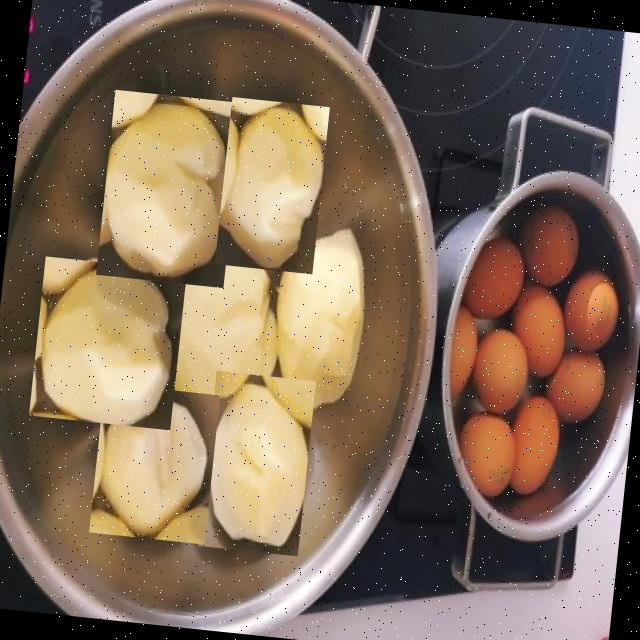Potato: (95, 88, 242, 286), (28, 255, 186, 429), (164, 234, 294, 427), (265, 218, 378, 416), (198, 370, 316, 554), (89, 382, 220, 543), (214, 95, 330, 272)
